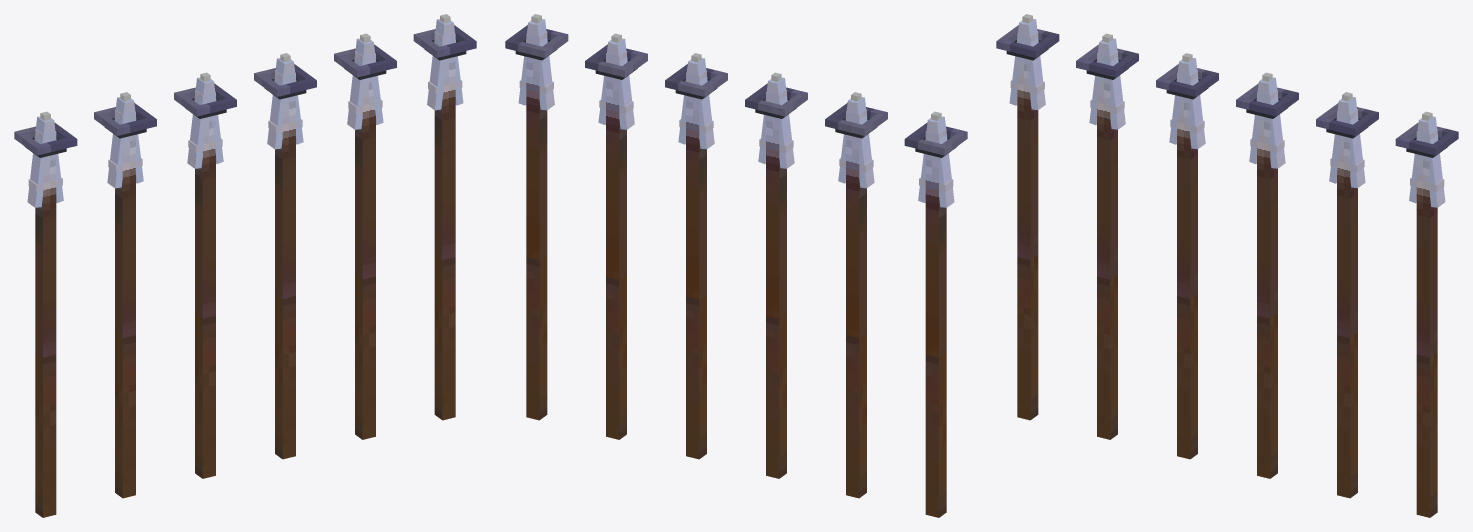
Rendered from trap-19_2.glb.
The picture shows the model from 3 angles, left to right: view 1: azimuth 30°, elevation 25°; view 2: azimuth 150°, elevation 25°; view 3: azimuth 330°, elevation 25°; orthographic projection.
Visible parts, largest first — view 1: Base$$10-Local; view 2: Base$$10-Local; view 3: Base$$10-Local.
Part boxes in pixels (left/top/right/bottom): Base$$10-Local: left=14, top=14, right=476, bottom=517; Base$$10-Local: left=505, top=14, right=967, bottom=517; Base$$10-Local: left=996, top=14, right=1458, bottom=517.
Size of the model in its own units: 11 by 9.56 by 0.9998.
Materials: 5 (5 with a texture image).
